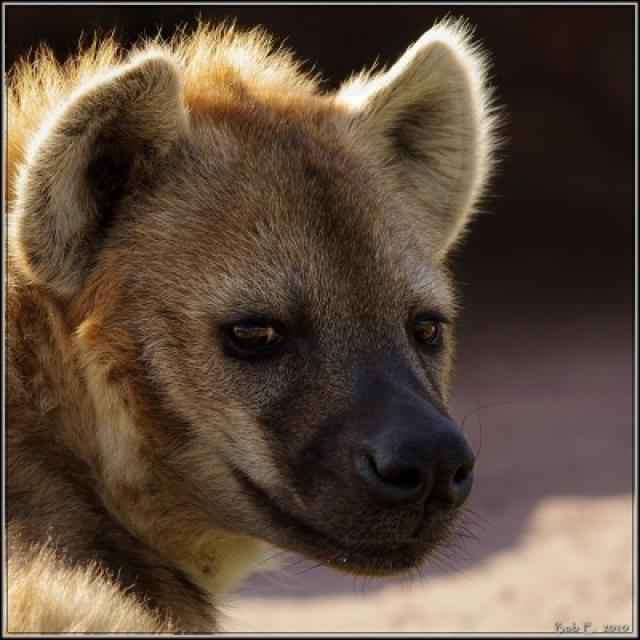hyena: (8, 14, 509, 635)
